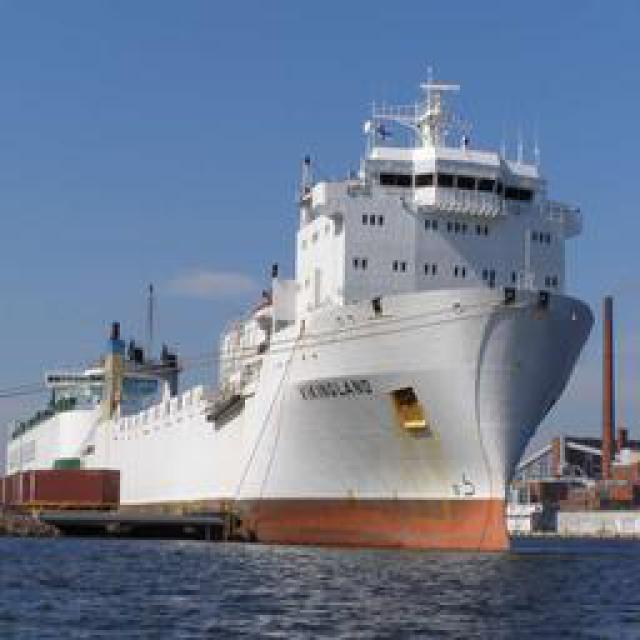Ship: (58, 66, 606, 549)
